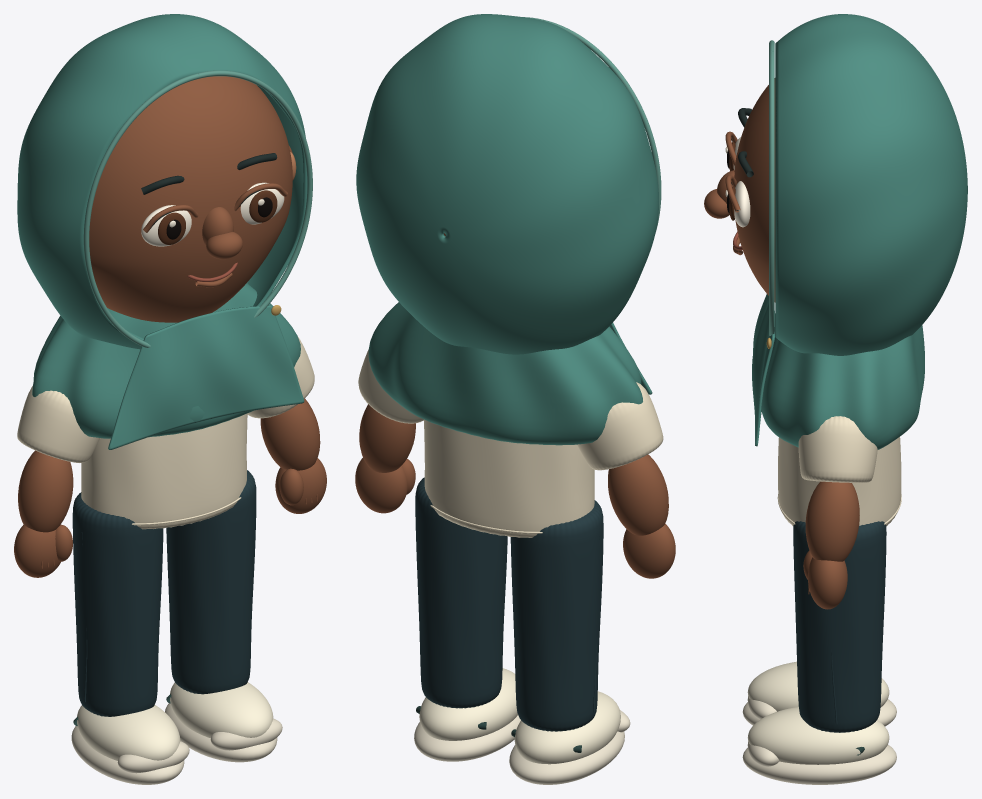
File: female-tudung-short.glb
3 views of the same model, side by side, from view 1: azimuth 30°, elevation 25°; view 2: azimuth 150°, elevation 25°; view 3: azimuth 270°, elevation 25° (orthographic). The views are drawn at different scales.
Visible parts, largest first — view 1: Hijab | fitted face opening and hood, Face | sculpted soft jaw.002, Hijab | softly folded front panel, Trousers | tapered leg.004, Trousers | tapered leg.005, Cotton tee | tailored body.002, Hijab | shoulder drape, Sneaker | canvas upper.004, Sneaker | canvas upper.005, Hijab | stitched opening, Tee | tailored short sleeve.004, Arm | forearm.004 (+12 smaller); view 2: Hijab | fitted face opening and hood, Hijab | shoulder drape, Trousers | tapered leg.004, Trousers | tapered leg.005, Cotton tee | tailored body.002, Tee | tailored short sleeve.004, Arm | forearm.004, Sneaker | canvas upper.004, Sneaker | canvas upper.005, Arm | forearm.005, Sneaker | rubber sole.004, Sneaker | rubber sole.005 (+4 smaller); view 3: Hijab | fitted face opening and hood, Trousers | tapered leg.005, Hijab | shoulder drape, Sneaker | canvas upper.005, Face | sculpted soft jaw.002, Cotton tee | tailored body.002, Tee | tailored short sleeve.005, Arm | forearm.005, Sneaker | rubber sole.005, Sneaker | canvas upper.004, Hijab | stitched opening, Hijab | softly folded front panel (+4 smaller).
Boxes of the visible parts, <box> form: Hijab | fitted face opening and hood: <box>17,14,307,349</box>; Face | sculpted soft jaw.002: <box>89,76,292,322</box>; Hijab | softly folded front panel: <box>108,305,304,449</box>; Trousers | tapered leg.004: <box>72,492,163,716</box>; Trousers | tapered leg.005: <box>166,470,256,694</box>; Cotton tee | tailored body.002: <box>81,413,247,529</box>; Hijab | shoulder drape: <box>32,283,300,438</box>; Sneaker | canvas upper.004: <box>77,705,180,760</box>; Sneaker | canvas upper.005: <box>170,682,273,738</box>; Hijab | stitched opening: <box>83,70,312,347</box>; Tee | tailored short sleeve.004: <box>17,386,99,462</box>; Arm | forearm.004: <box>18,450,73,532</box>; Hijab | fitted face opening and hood: <box>356,14,658,354</box>; Hijab | shoulder drape: <box>368,302,642,445</box>; Trousers | tapered leg.004: <box>510,500,603,731</box>; Trousers | tapered leg.005: <box>415,477,507,708</box>; Cotton tee | tailored body.002: <box>424,419,594,537</box>; Tee | tailored short sleeve.004: <box>577,382,663,470</box>; Arm | forearm.004: <box>608,454,668,535</box>; Sneaker | canvas upper.004: <box>514,691,620,764</box>; Sneaker | canvas upper.005: <box>419,668,517,740</box>; Arm | forearm.005: <box>359,404,415,472</box>; Sneaker | rubber sole.004: <box>509,731,624,784</box>; Sneaker | rubber sole.005: <box>414,715,520,761</box>; Hijab | fitted face opening and hood: <box>775,14,967,355</box>; Trousers | tapered leg.005: <box>793,521,886,732</box>; Hijab | shoulder drape: <box>761,313,924,449</box>; Sneaker | canvas upper.005: <box>747,707,889,764</box>; Face | sculpted soft jaw.002: <box>734,78,775,302</box>; Cotton tee | tailored body.002: <box>778,437,901,526</box>; Tee | tailored short sleeve.005: <box>798,416,877,482</box>; Arm | forearm.005: <box>805,481,859,561</box>; Sneaker | rubber sole.005: <box>742,744,896,784</box>; Sneaker | canvas upper.004: <box>747,661,889,711</box>; Hijab | stitched opening: <box>769,40,774,335</box>; Hijab | softly folded front panel: <box>752,294,774,446</box>.
Size of the model in its own units: 1.13 by 2.52 by 0.834.
